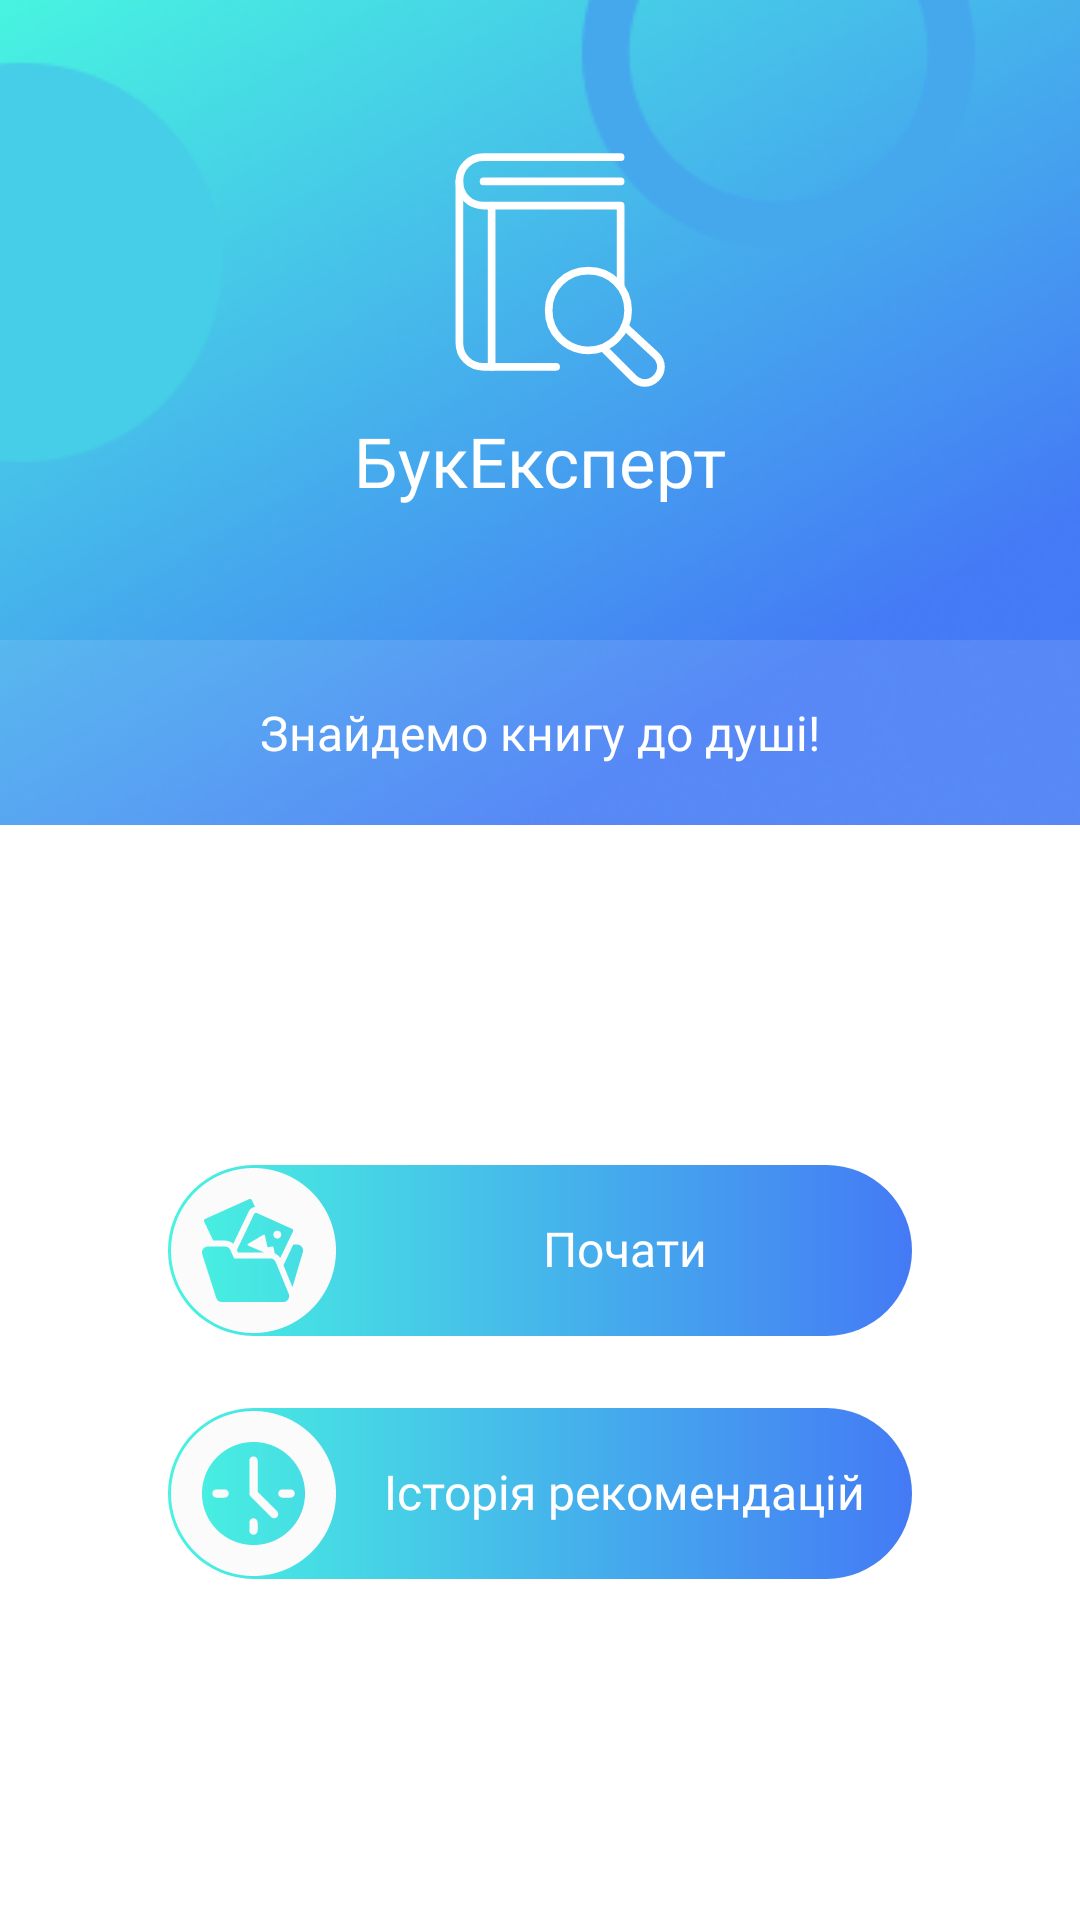

Named icons in this screenshot (1080w x 1920h) and their centers, (x=x, y=y):
history: (x=253, y=1493)
